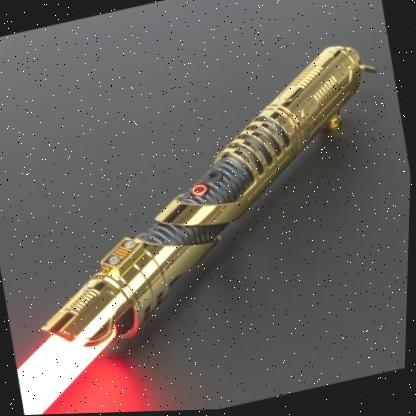sith_lightsaber: (16, 29, 388, 415)
